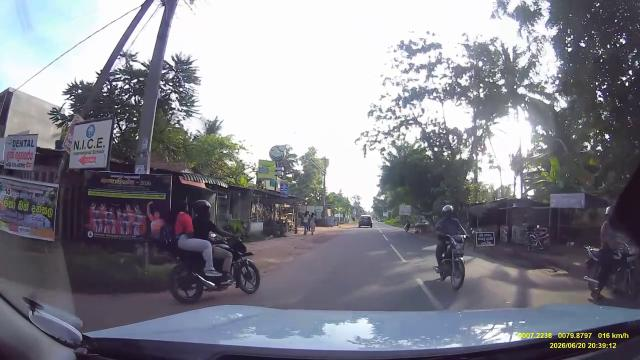no helmet: (171, 196, 190, 215)
